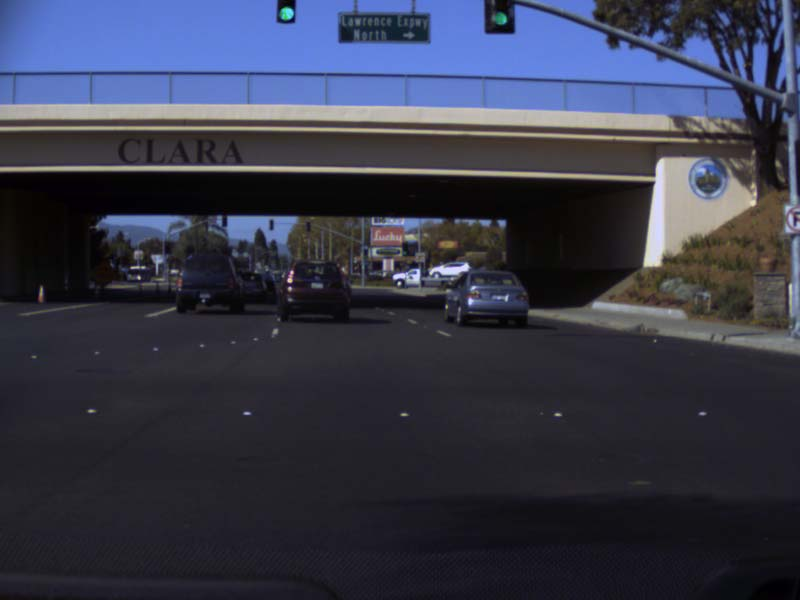Green: (402, 242, 408, 255), (363, 248, 367, 259)
